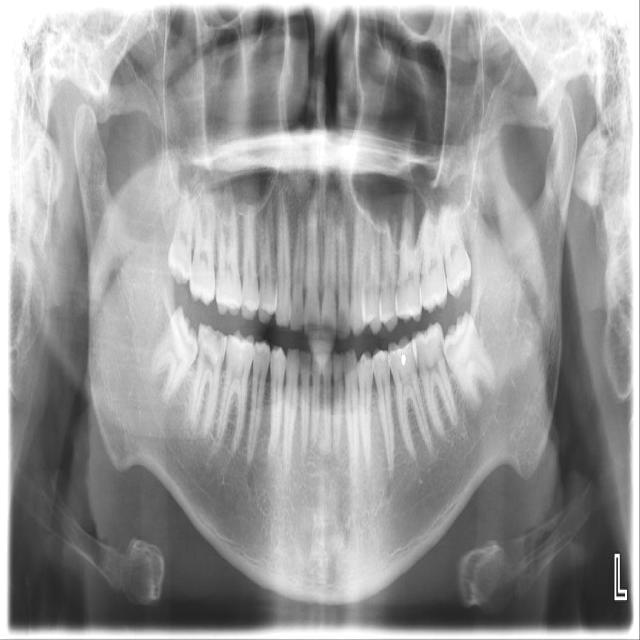Filling: (402, 353, 406, 365)
impacted tooth: (441, 312, 499, 409), (144, 304, 198, 403), (168, 190, 196, 280)
